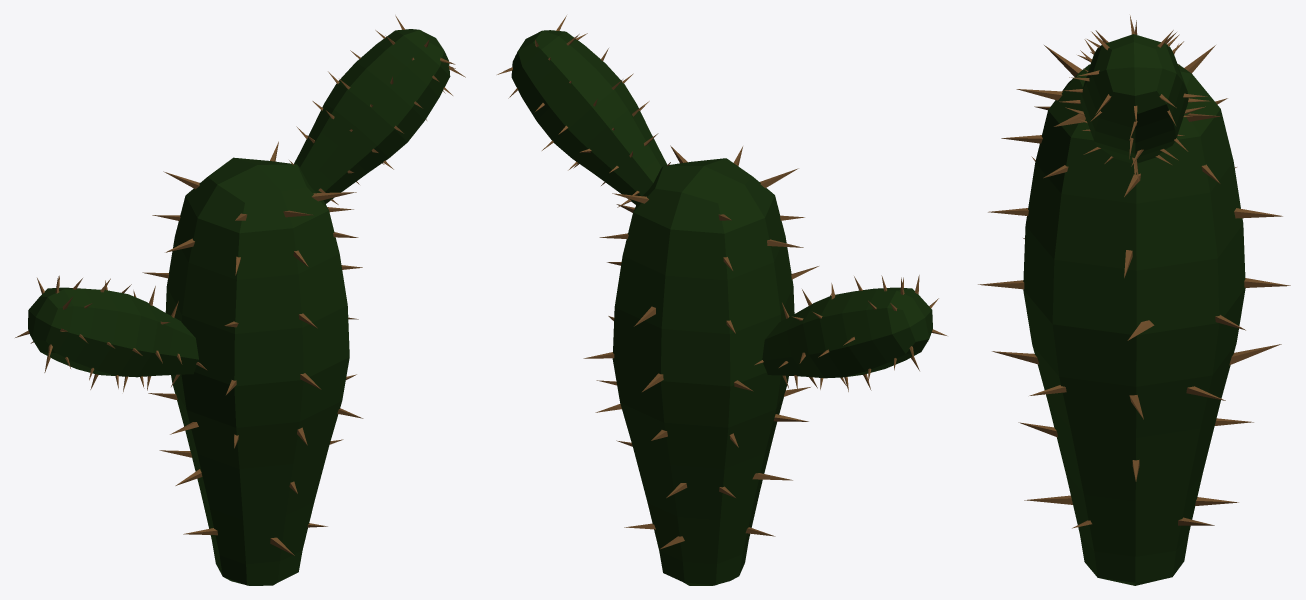
Rendered from cactus.glb.
3 renders of one model, left to right at view 1: azimuth 30°, elevation 25°; view 2: azimuth 150°, elevation 25°; view 3: azimuth 270°, elevation 25°, orthographic. The views are drawn at different scales.
Parts seen in each view (by area): view 1: Cactus_Harvested_Cube.034, mesh_mm1; view 2: Cactus_Harvested_Cube.034, mesh_mm1; view 3: Cactus_Harvested_Cube.034, mesh_mm1.
Part boxes in pixels (box(x1,y1,x2,y2)): Cactus_Harvested_Cube.034: box(28, 29, 450, 585); mesh_mm1: box(15, 15, 465, 555); Cactus_Harvested_Cube.034: box(511, 30, 932, 585); mesh_mm1: box(497, 15, 946, 549); Cactus_Harvested_Cube.034: box(1023, 34, 1245, 585); mesh_mm1: box(978, 15, 1290, 528).
Size of the model in its own units: 1.09 by 1.26 by 0.5629.
